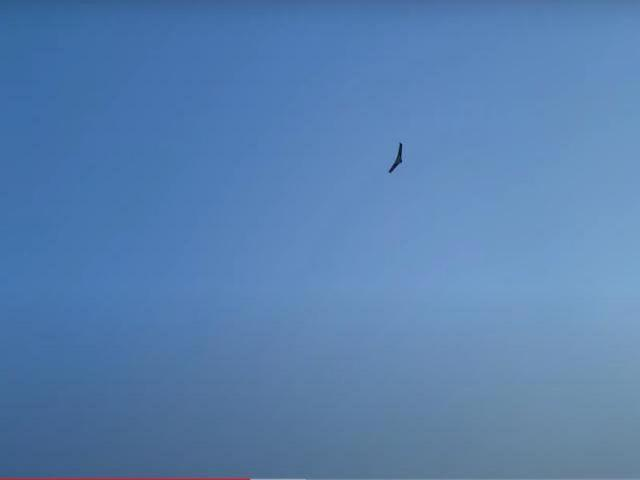iha: (390, 142, 406, 174)
